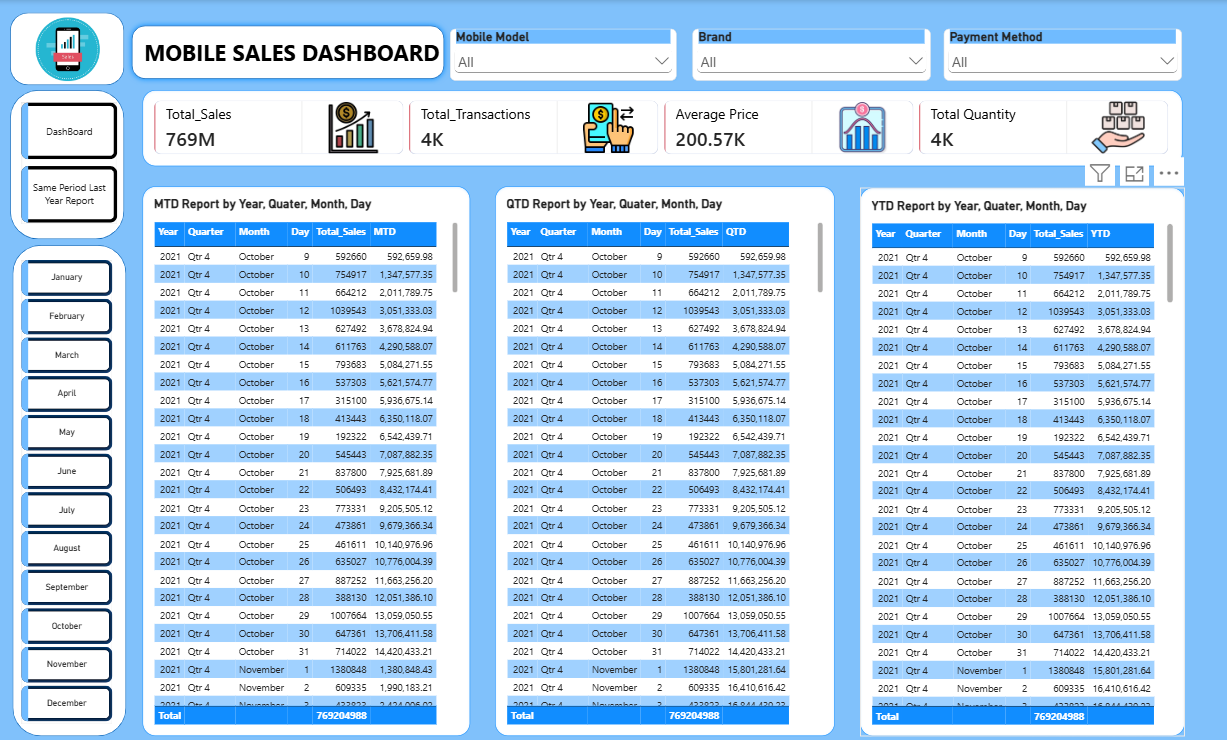

The page's visual inventory and layout, read from the dashboard file:
{"tool":"powerbi","page":{"name":"MTD-QTD-YTD Report","canvas":[1920,1080],"ordinal":2},"visuals":[{"type":"shape","box":[14.6,18.5,165.4,105.4],"z":0},{"type":"image","box":[24.6,25.4,145.4,92.3],"z":1000},{"type":"shape","box":[18.1,354.7,164.7,711.2],"z":2000},{"type":"shape","box":[14.6,130,165.4,216.2],"z":3000},{"type":"advancedSlicerVisual","fields":{"Values":["Custom_Calender.Date.Variation.Date Hierarchy.Month"]},"box":[30.8,376.4,132.1,671.4],"z":4000},{"type":"cardVisual","fields":{"Data":["MoblieSales_Data.Total_Sales","MoblieSales_Data.Total_Transactions","MoblieSales_Data.Average Price","MoblieSales_Data.Total Quantity"]},"box":[206.3,130.3,1505.6,110.4],"z":5000},{"type":"slicer","fields":{"Values":["MoblieSales_Data.Mobile Model"]},"box":[651.7,41.7,328.3,75],"z":6000},{"type":"slicer","fields":{"Values":["MoblieSales_Data.Brand"]},"box":[1001.7,41.7,345,75],"z":7000},{"type":"slicer","fields":{"Values":["MoblieSales_Data.Payment Method"]},"box":[1366.7,41.7,345,75],"z":8000},{"type":"shape","box":[183.3,28.3,468.3,93.3],"z":9000},{"type":"textbox","box":[195,55,456.7,61.7],"z":10000},{"type":"tableEx","title":"MTD Report by Year, Quater, Month, Day","fields":{"Values":["Custom_Calender.Date.Variation.Date Hierarchy.Year","Custom_Calender.Date.Variation.Date Hierarchy.Quarter","Custom_Calender.Date.Variation.Date Hierarchy.Month","Custom_Calender.Date.Variation.Date Hierarchy.Day","MoblieSales_Data.Total_Sales","MoblieSales_Data.MTD"]},"box":[206.3,269.6,474.1,796.3],"z":11000},{"type":"tableEx","title":"QTD Report by Year, Quater, Month, Day","fields":{"Values":["Custom_Calender.Date.Variation.Date Hierarchy.Year","Custom_Calender.Date.Variation.Date Hierarchy.Quarter","Custom_Calender.Date.Variation.Date Hierarchy.Month","Custom_Calender.Date.Variation.Date Hierarchy.Day","MoblieSales_Data.Total_Sales","MoblieSales_Data.QTD"]},"box":[716.6,269.6,492.2,796.3],"z":12000},{"type":"tableEx","title":"YTD Report by Year, Quater, Month, Day","fields":{"Values":["Custom_Calender.Date.Variation.Date Hierarchy.Year","Custom_Calender.Date.Variation.Date Hierarchy.Quarter","Custom_Calender.Date.Variation.Date Hierarchy.Month","Custom_Calender.Date.Variation.Date Hierarchy.Day","MoblieSales_Data.Total_Sales","MoblieSales_Data.YTD"]},"box":[1245,271.4,470.5,794.4],"z":13000},{"type":"pageNavigator","box":[30.8,148.4,139.3,175.5],"z":14000}]}

Visuals, with their boxes on the page's 1920x1080 design canvas (x1, y1, x2, y2). These are canvas units, not pixel positions in the 1227x740 screenshot, which may show the page scaled, cropped or inside an application window:
shape: locate(15, 18, 180, 124)
image: locate(25, 25, 170, 118)
shape: locate(18, 355, 183, 1066)
shape: locate(15, 130, 180, 346)
advancedSlicerVisual - Custom_Calender.Date.Variation.Date Hierarchy.Month: locate(31, 376, 163, 1048)
cardVisual - MoblieSales_Data.Total_Sales x MoblieSales_Data.Total_Transactions: locate(206, 130, 1712, 241)
slicer - MoblieSales_Data.Mobile Model: locate(652, 42, 980, 117)
slicer - MoblieSales_Data.Brand: locate(1002, 42, 1347, 117)
slicer - MoblieSales_Data.Payment Method: locate(1367, 42, 1712, 117)
shape: locate(183, 28, 652, 122)
textbox: locate(195, 55, 652, 117)
"MTD Report by Year, Quater, Month, Day" tableEx: locate(206, 270, 680, 1066)
"QTD Report by Year, Quater, Month, Day" tableEx: locate(717, 270, 1209, 1066)
"YTD Report by Year, Quater, Month, Day" tableEx: locate(1245, 271, 1716, 1066)
pageNavigator: locate(31, 148, 170, 324)
